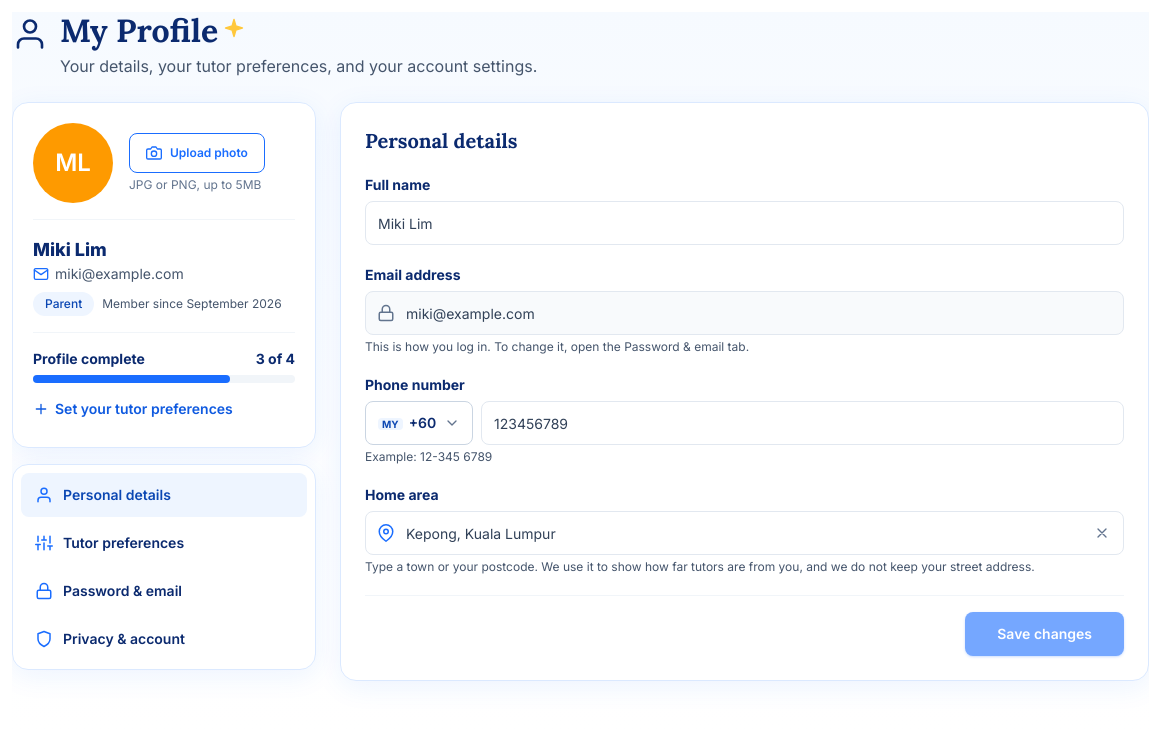
Test case: personal details › Save is off until something changes, and says there are unsaved changes
Check: the button "Save changes" is disabled, box [965,612,1124,656]
Type " Jr" into the field labelled "Full name" at point(744, 223), box [365,201,1124,245]
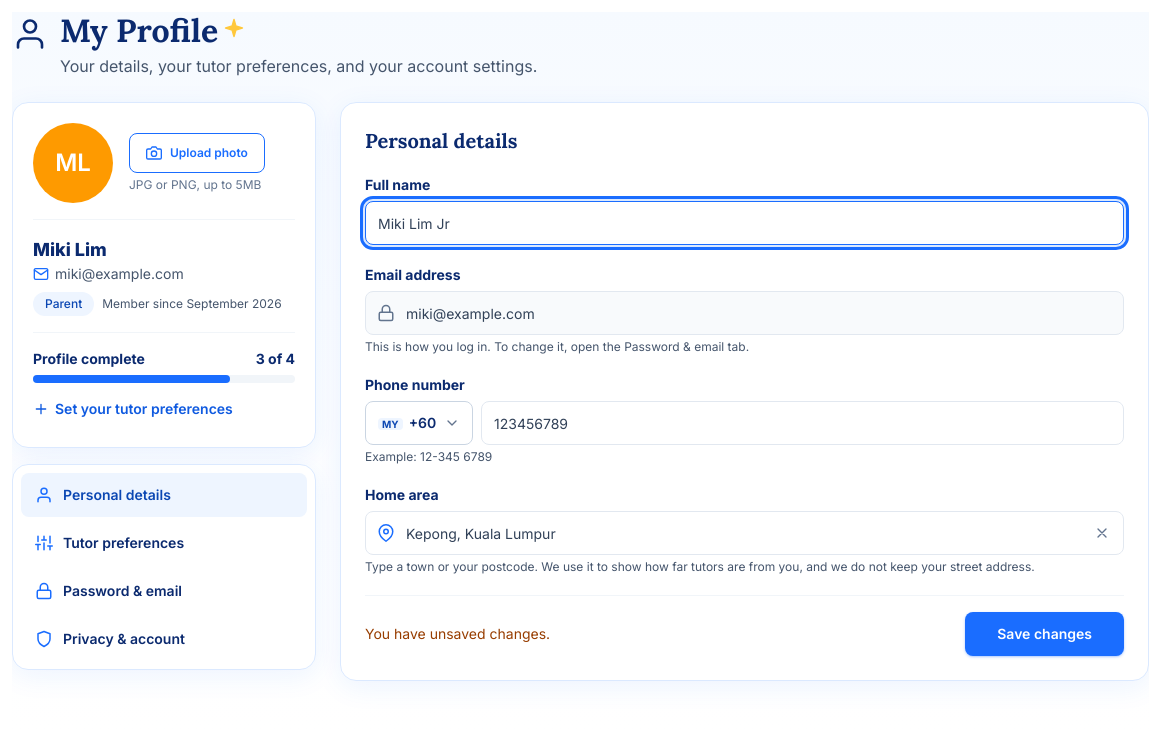
Check: the button "Save changes" is enabled, box [965,612,1124,656]
Check: the text "You have unsaved changes." is shown, box [365,624,550,644]
